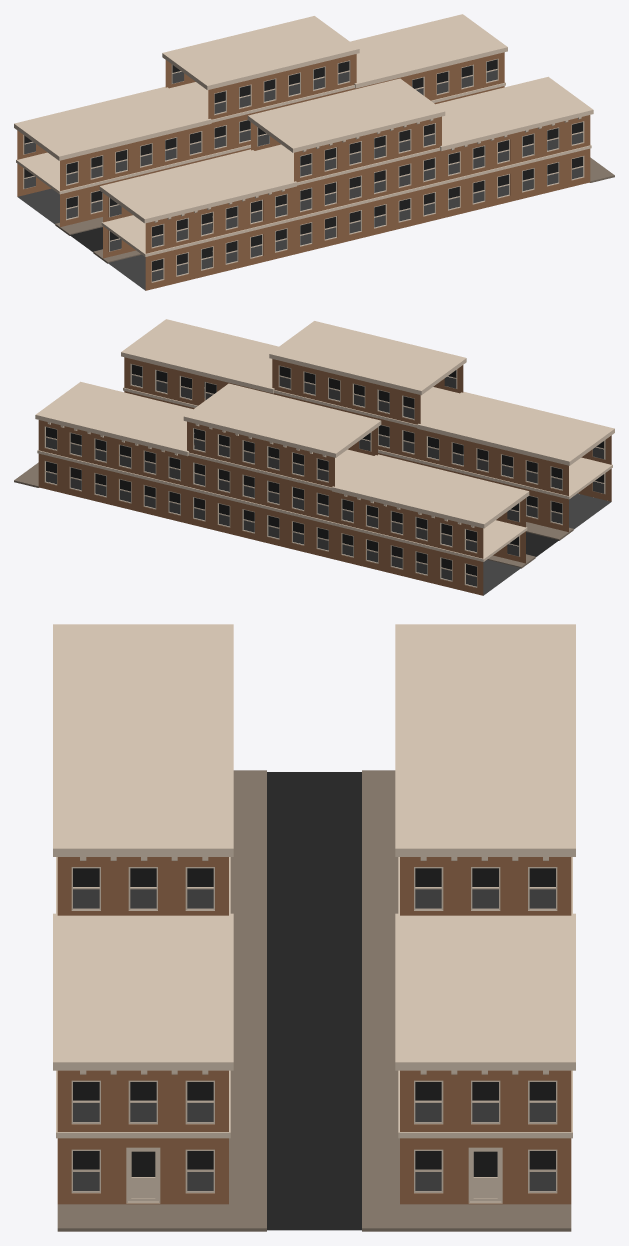
File: city_right3.glb
3 renders of one model, top to bottom at view 1: azimuth 30°, elevation 25°; view 2: azimuth 150°, elevation 25°; view 3: azimuth 270°, elevation 25°, orthographic. The views are drawn at different scales.
Visible parts, largest first — view 1: door.002, Plane.053, Trottoir.001, Road.011; view 2: door.002, Plane.053, Trottoir.001, Road.011; view 3: door.002, Road.011, Trottoir.001, Trottoir.002.
Boxes of the visible parts, bbox=[...] form: door.002: bbox=[14, 14, 593, 290]; Plane.053: bbox=[18, 188, 145, 290]; Trottoir.001: bbox=[55, 217, 141, 263]; Road.011: bbox=[70, 227, 102, 251]; door.002: bbox=[35, 319, 614, 595]; Plane.053: bbox=[194, 493, 610, 595]; Trottoir.001: bbox=[487, 522, 573, 568]; Road.011: bbox=[526, 532, 558, 556]; door.002: bbox=[53, 624, 575, 1204]; Road.011: bbox=[267, 772, 361, 1230]; Trottoir.001: bbox=[229, 770, 399, 1204]; Trottoir.002: bbox=[57, 1204, 571, 1231].
Size of the model in its own units: 57.25 by 12.56 by 27.51.
